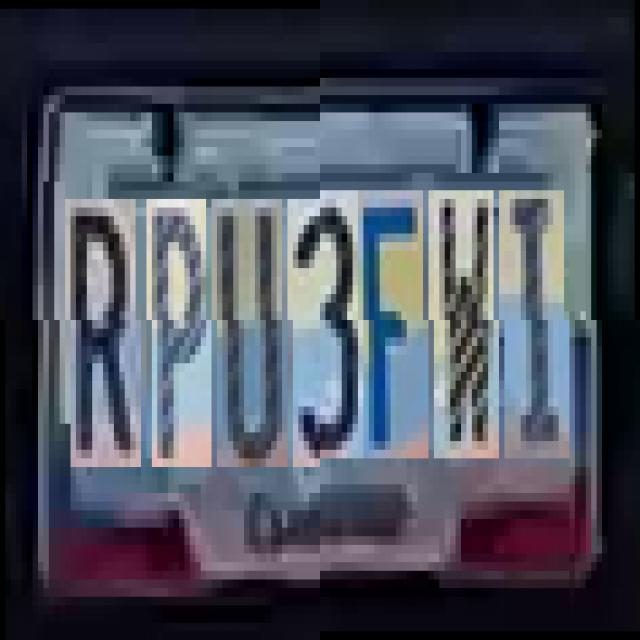3: (293, 199, 363, 467)
F: (364, 199, 428, 467)
I: (504, 199, 570, 467)
P: (152, 199, 212, 467)
R: (70, 199, 142, 467)
U: (216, 199, 288, 467)
W: (434, 199, 499, 467)
